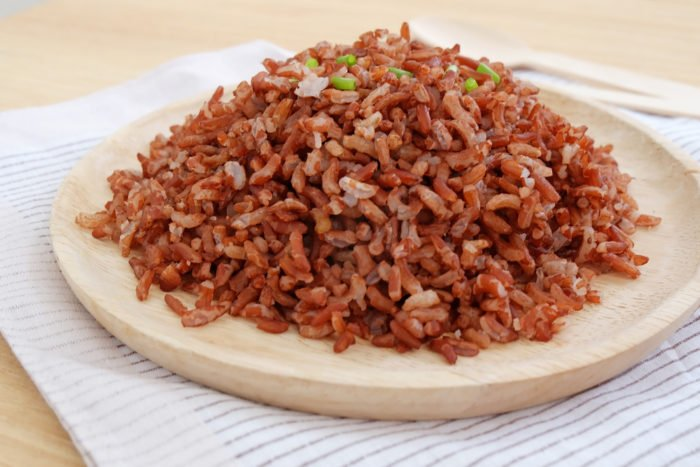Nasi Merah: (81, 27, 633, 350)
